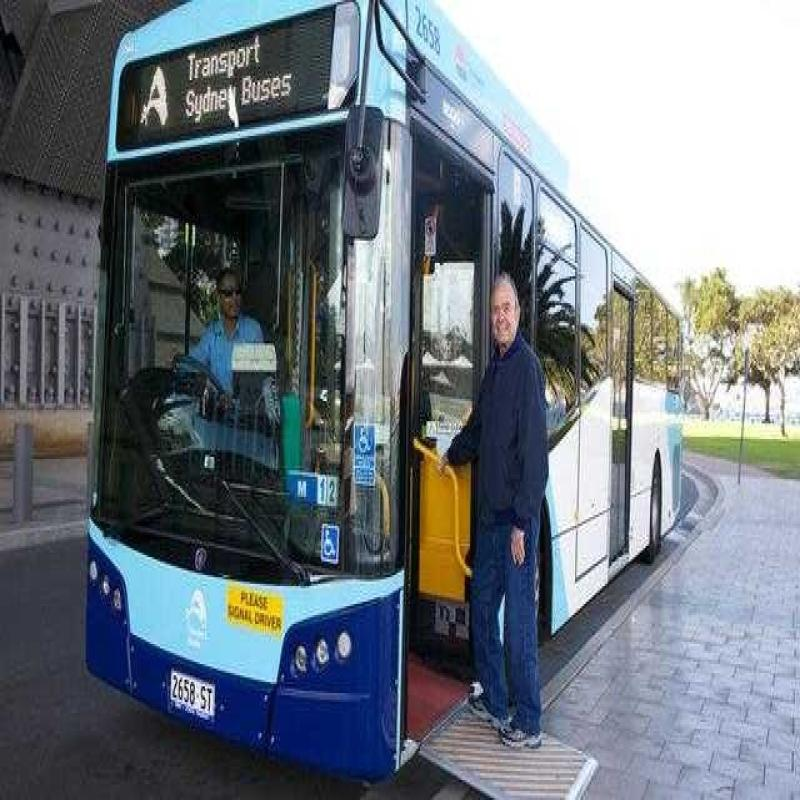bus: (90, 0, 710, 735)
